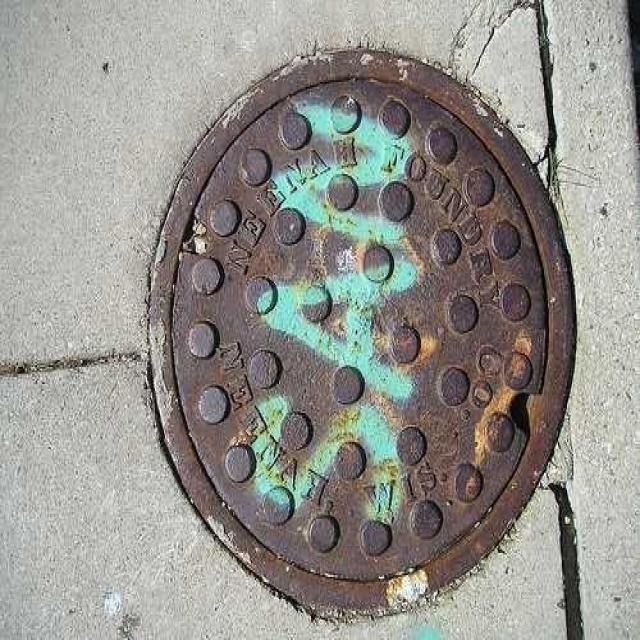manhole: (145, 48, 579, 623)
